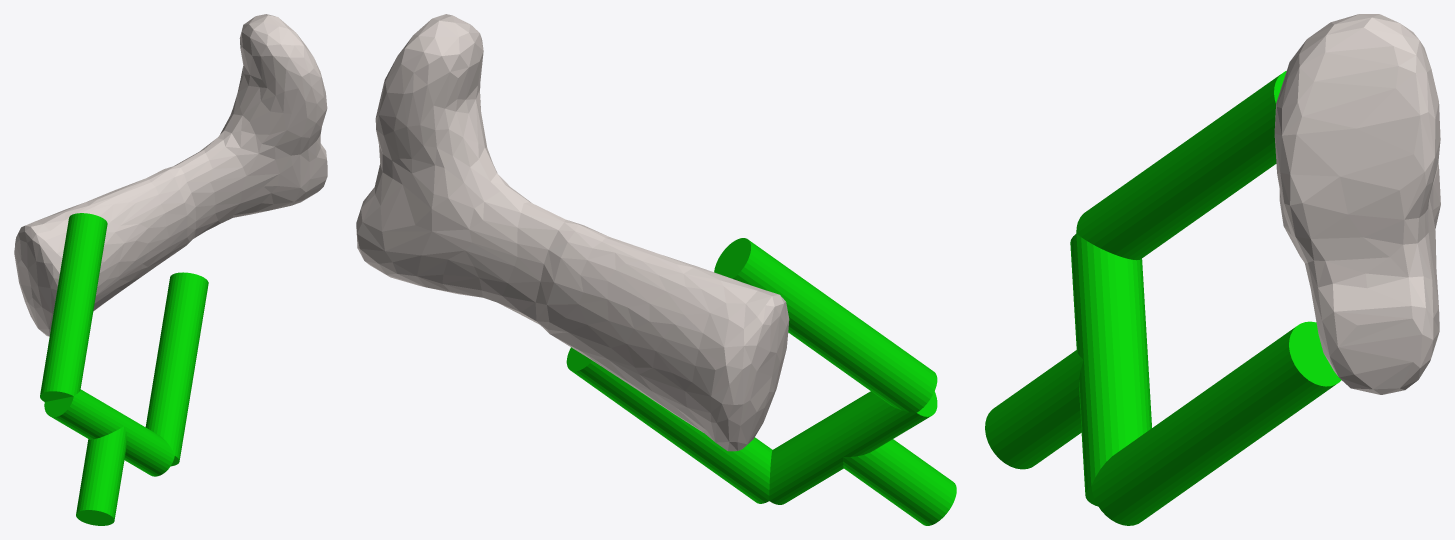
The model's file is round_000_trial_004.obj.
3 views of the same model, side by side, from view 1: azimuth 30°, elevation 25°; view 2: azimuth 150°, elevation 25°; view 3: azimuth 270°, elevation 25° (orthographic). The views are drawn at different scales.
Visible parts, largest first — view 1: geometry_0, geometry_1; view 2: geometry_0, geometry_1; view 3: geometry_1, geometry_0.
Part boxes in pixels (left/top/right/bottom): geometry_0: left=14, top=14, right=327, bottom=336; geometry_1: left=40, top=213, right=208, bottom=525; geometry_0: left=356, top=14, right=789, bottom=451; geometry_1: left=566, top=238, right=956, bottom=525; geometry_1: left=985, top=71, right=1341, bottom=525; geometry_0: left=1274, top=14, right=1440, bottom=394.
Bounding box in the file's own units: 0.1027 × 0.1066 × 0.0645.
